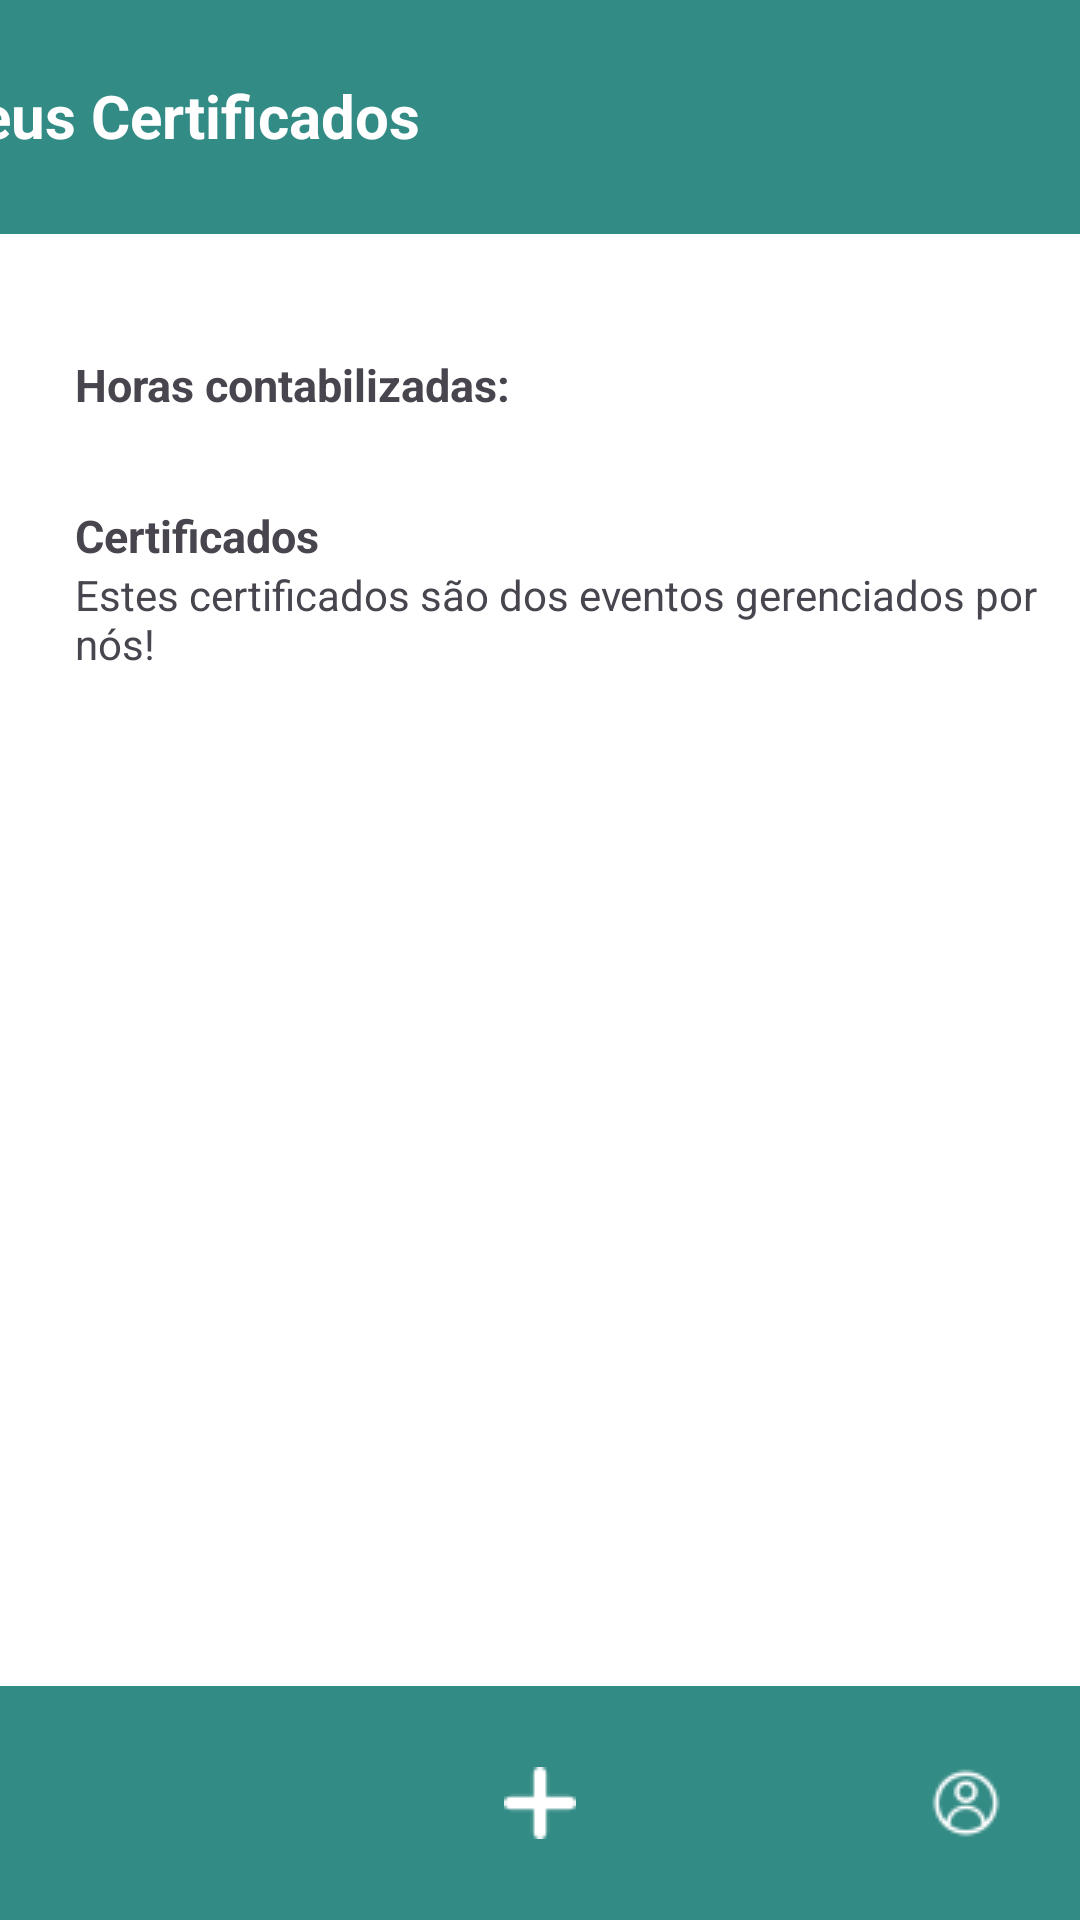

Where icons sit on this 1080*1920 app screen, as (x1, y1, x2, y2):
botao criar evento: (504, 1767, 576, 1839)
botao perfil: (932, 1769, 1000, 1837)
